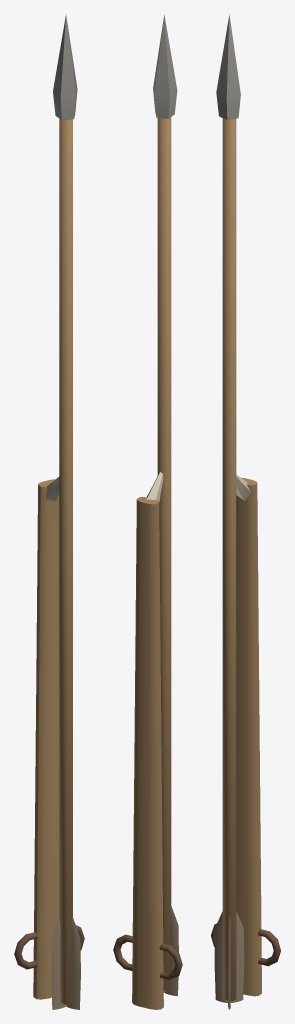
The model's file is atlatl.glb.
The picture shows the model from 3 angles, left to right: view 1: azimuth 30°, elevation 25°; view 2: azimuth 150°, elevation 25°; view 3: azimuth 330°, elevation 25°; orthographic projection.
Parts seen in each view (by area): view 1: atlatl; view 2: atlatl; view 3: atlatl.
Boxes of the visible parts, left/top/right/bottom form: atlatl: left=14, top=14, right=84, bottom=1009; atlatl: left=113, top=15, right=182, bottom=1009; atlatl: left=211, top=14, right=280, bottom=1009.
Bounding box in the file's own units: 0.122 × 1.65 × 0.0842.
